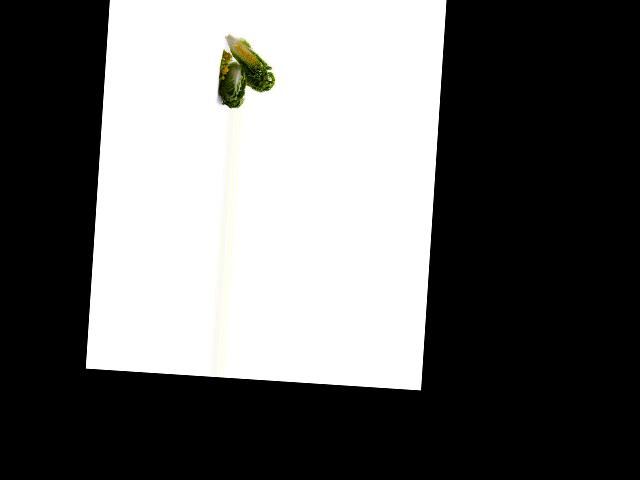lettuce: (215, 55, 249, 107)
